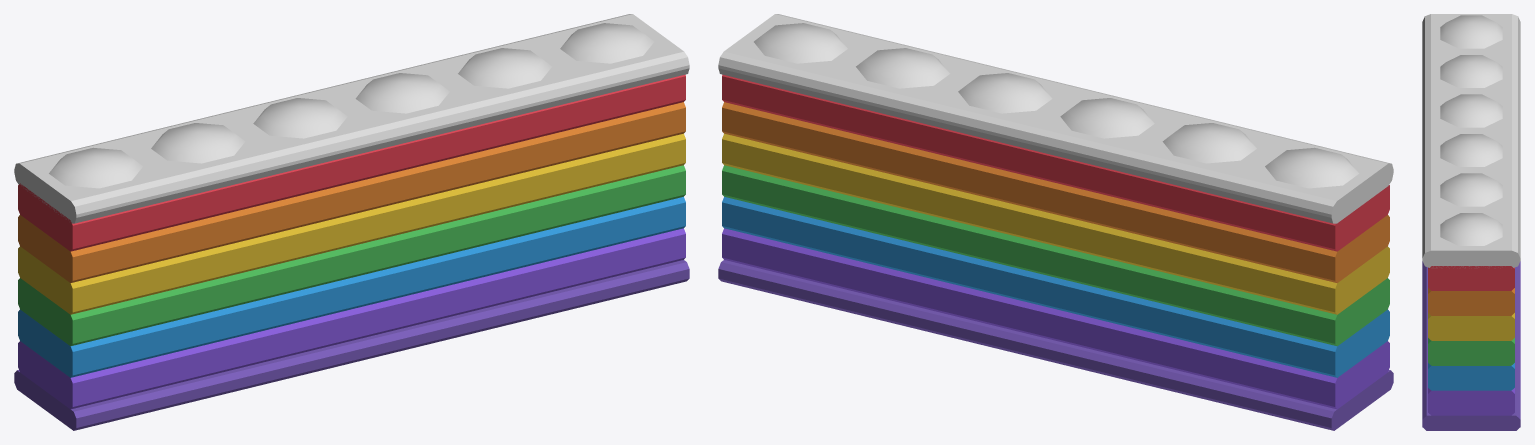
Rendered from carnival-border.glb.
3 renders of one model, left to right at view 1: azimuth 30°, elevation 25°; view 2: azimuth 150°, elevation 25°; view 3: azimuth 270°, elevation 25°, orthographic. The views are drawn at different scales.
Parts seen in each view (by area): view 1: carnival-border; view 2: carnival-border; view 3: carnival-border.
Part boxes in pixels (x1=…): carnival-border: x1=14, y1=14, x2=689, y2=430; carnival-border: x1=718, y1=14, x2=1393, y2=430; carnival-border: x1=1422, y1=14, x2=1520, y2=430.
Size of the model in its own units: 4 by 1.5 by 0.7.
